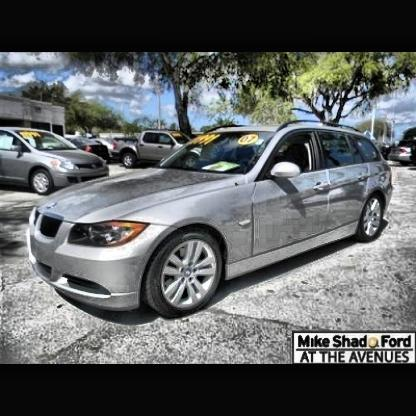BMW 3 Series Wagon 2012: (28, 122, 395, 321)
